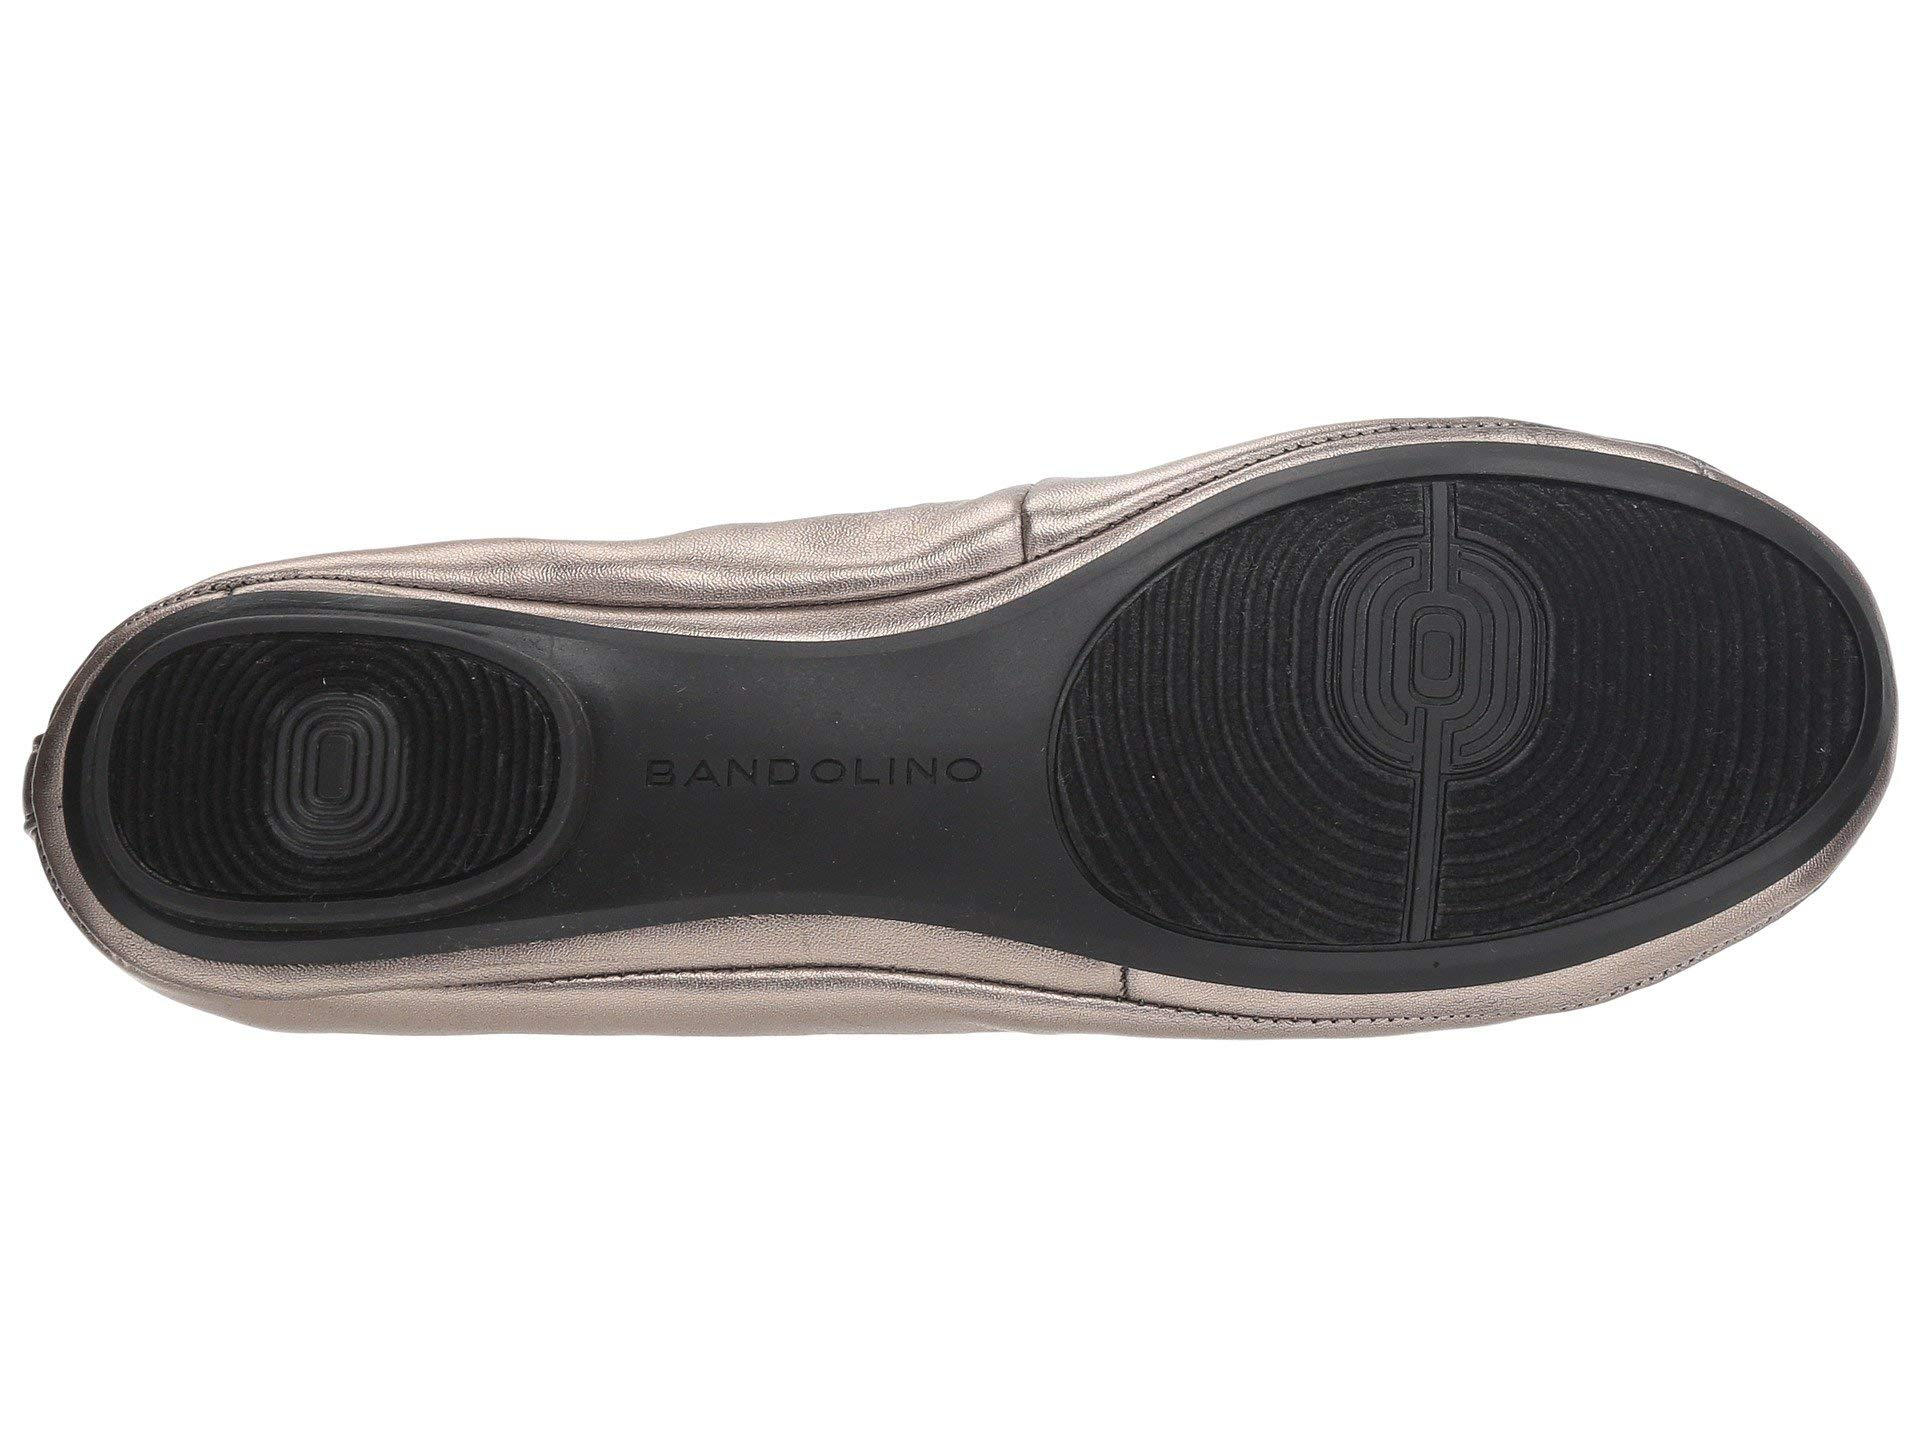circle: (1287, 495, 1671, 870), (187, 655, 452, 895), (591, 666, 828, 898), (806, 697, 1025, 898)
quad: (1287, 495, 1671, 870), (187, 655, 452, 895)
text: (591, 666, 828, 898), (806, 697, 1025, 898)
